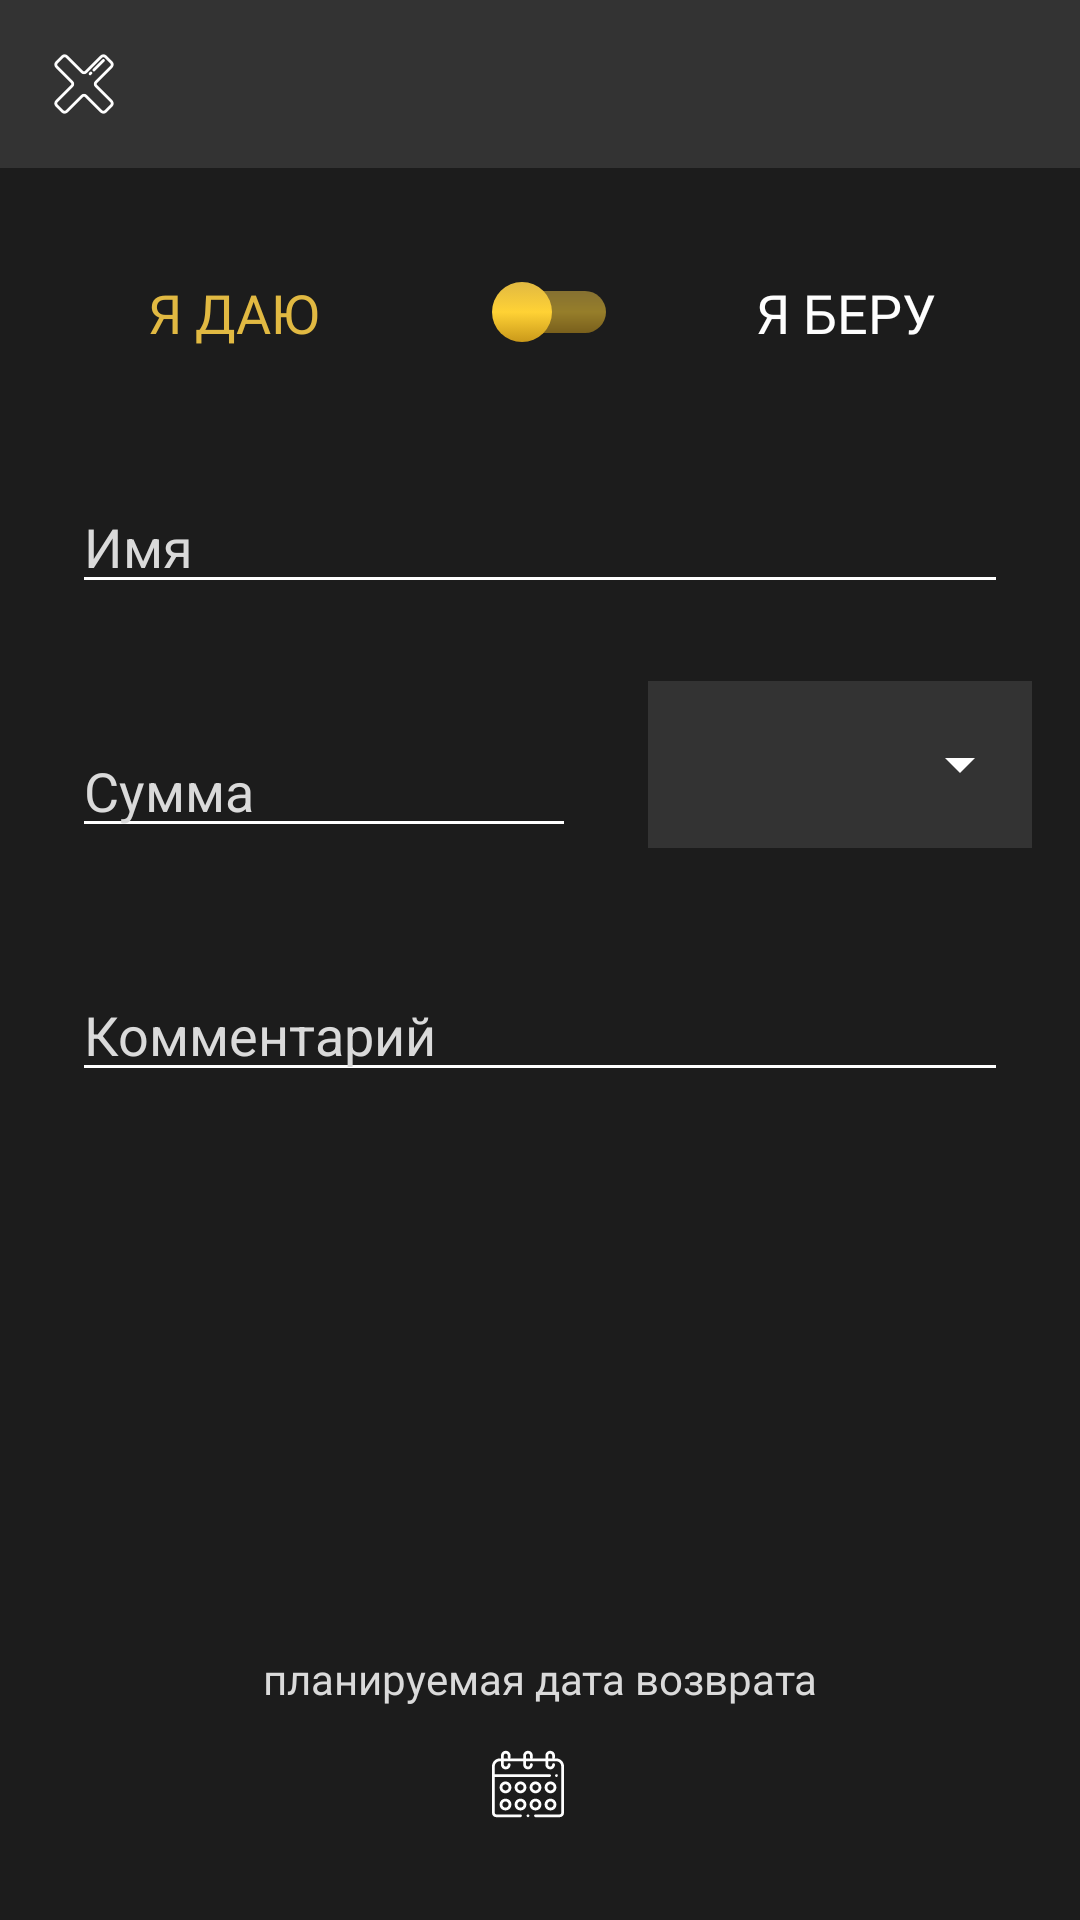

Icon click points for this 1080px x 1920px phone screenshot, format (x=x, y=y):
calendar: (x=528, y=1784)
